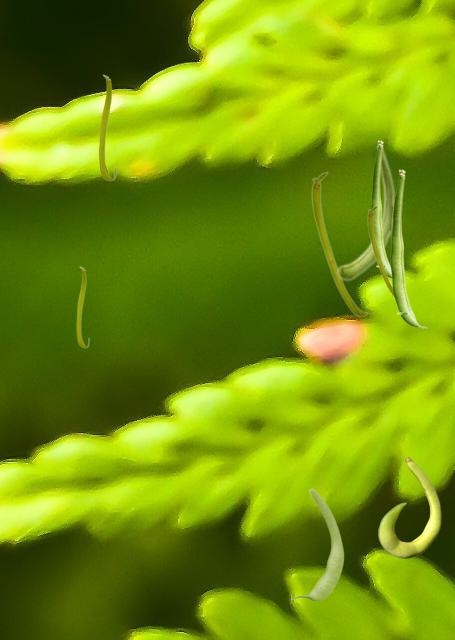french_bean: (311, 171, 367, 316), (336, 143, 395, 280), (378, 457, 440, 557), (290, 487, 343, 600), (390, 169, 427, 327), (370, 140, 390, 278), (367, 205, 392, 296), (98, 74, 115, 180), (76, 266, 88, 347)
